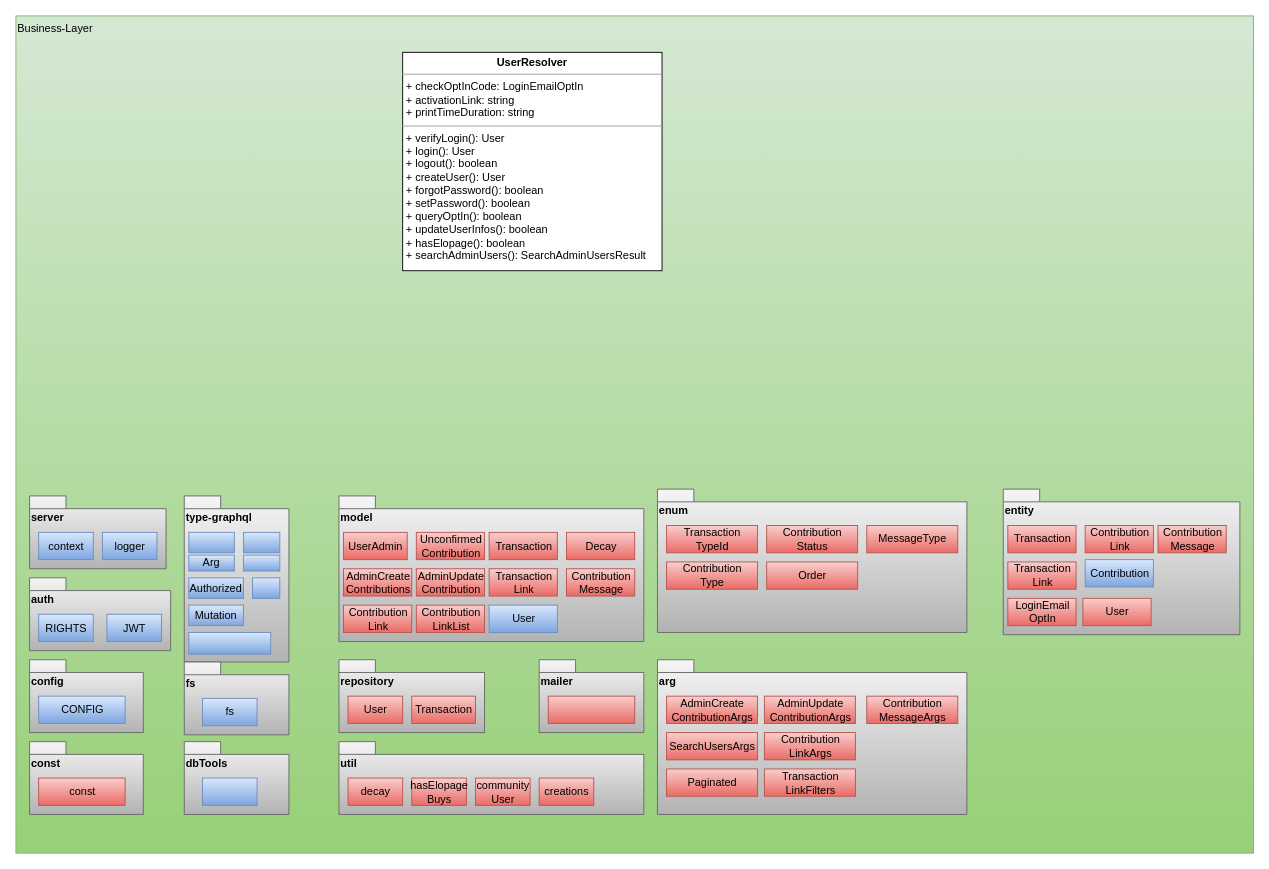
Image size: 1269x869. Some labels were removed from this diagram. The shapes that lost their labels are listed below. From the top down, each one's centre as x and y in pixels, then its label:
[211,542]: Resolver
[261,542]: Query
[261,562]: Args
[266,587]: Ctx
[229,643]: UseMiddleware
[591,709]: sendAccount ActivationEmail
[229,791]: typeorm
